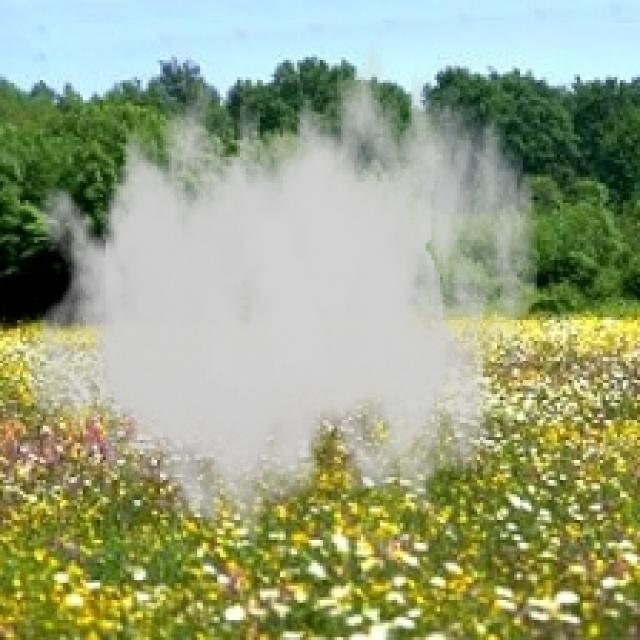Smoke: (23, 17, 540, 554)
